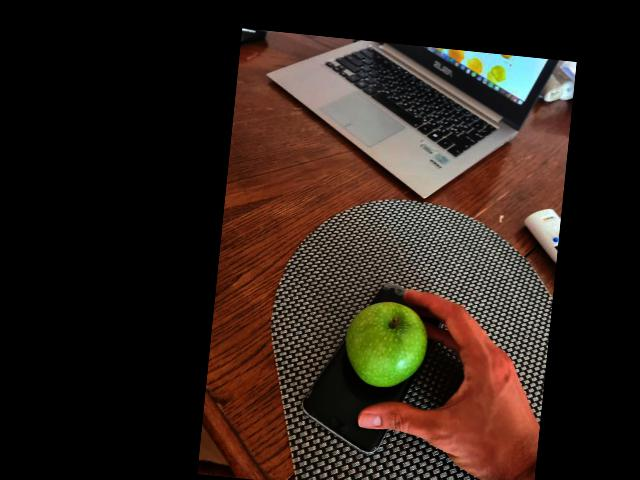apple: (340, 301, 426, 388)
